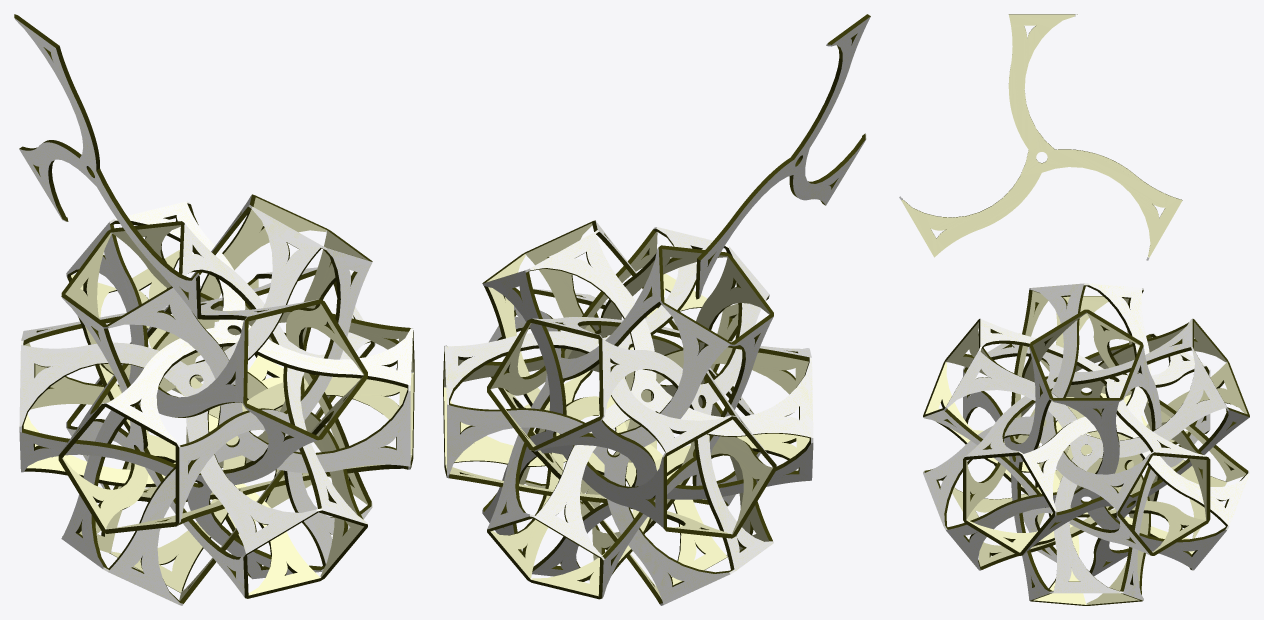
3 views of the same model, side by side, from view 1: azimuth 30°, elevation 25°; view 2: azimuth 150°, elevation 25°; view 3: azimuth 270°, elevation 25° (orthographic). The views are drawn at different scales.
Visible parts, largest first — view 1: cagework following ideas of george hart; view 2: cagework following ideas of george hart; view 3: cagework following ideas of george hart.
Boxes of the visible parts, x1,y1,x2,y2 form: cagework following ideas of george hart: (14, 14, 414, 605); cagework following ideas of george hart: (443, 14, 870, 605); cagework following ideas of george hart: (899, 14, 1249, 605).
Size of the model in its own units: 241 by 372 by 237.
